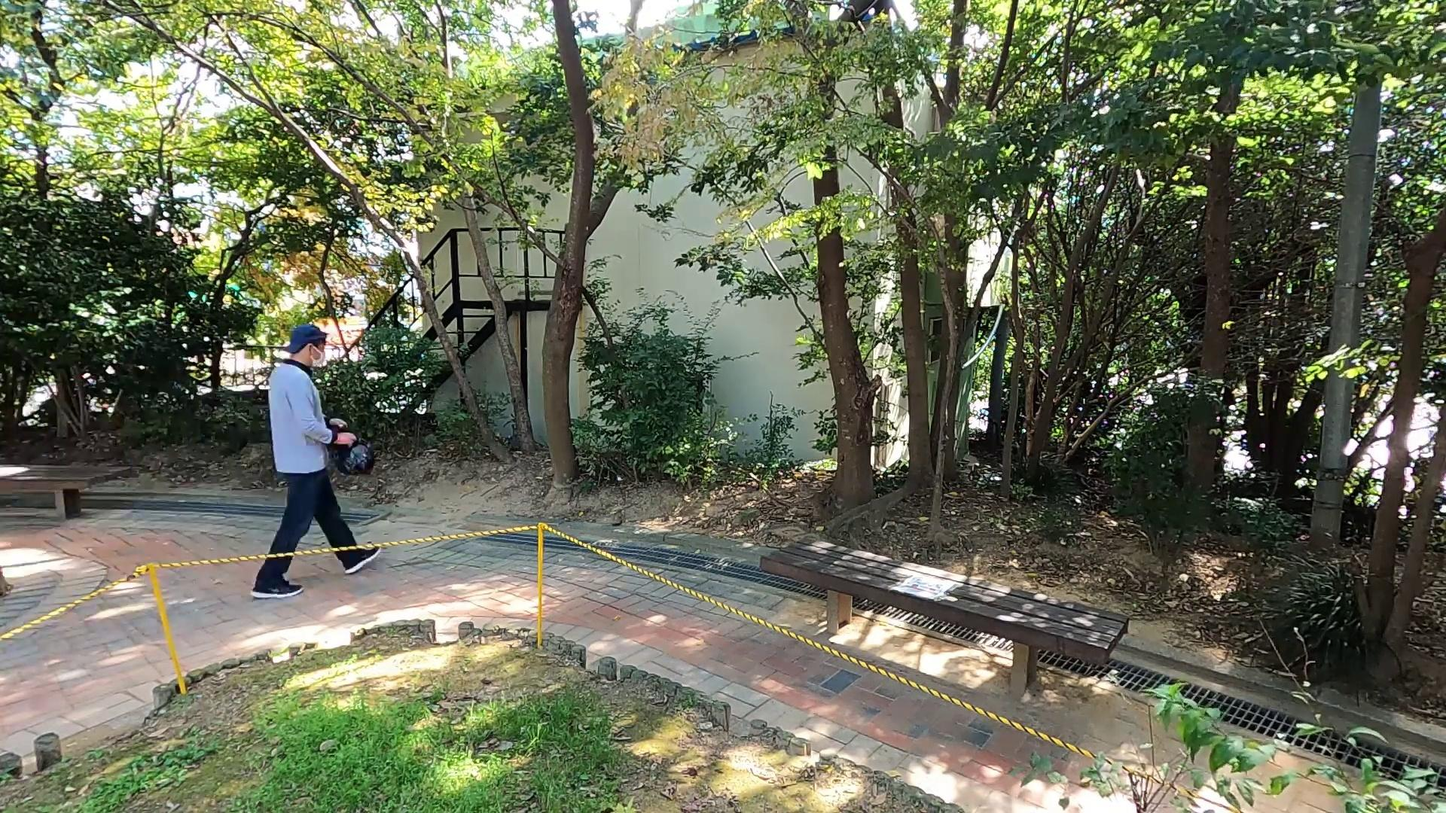person: (247, 318, 380, 598)
trash: (337, 444, 376, 477)
